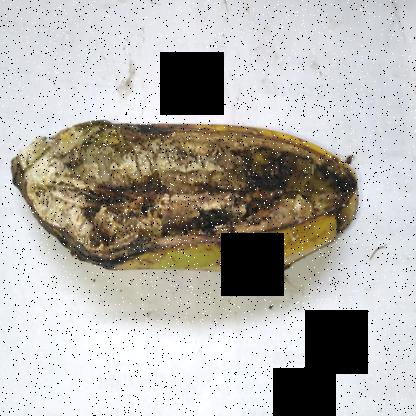rotten: (7, 101, 360, 290)
